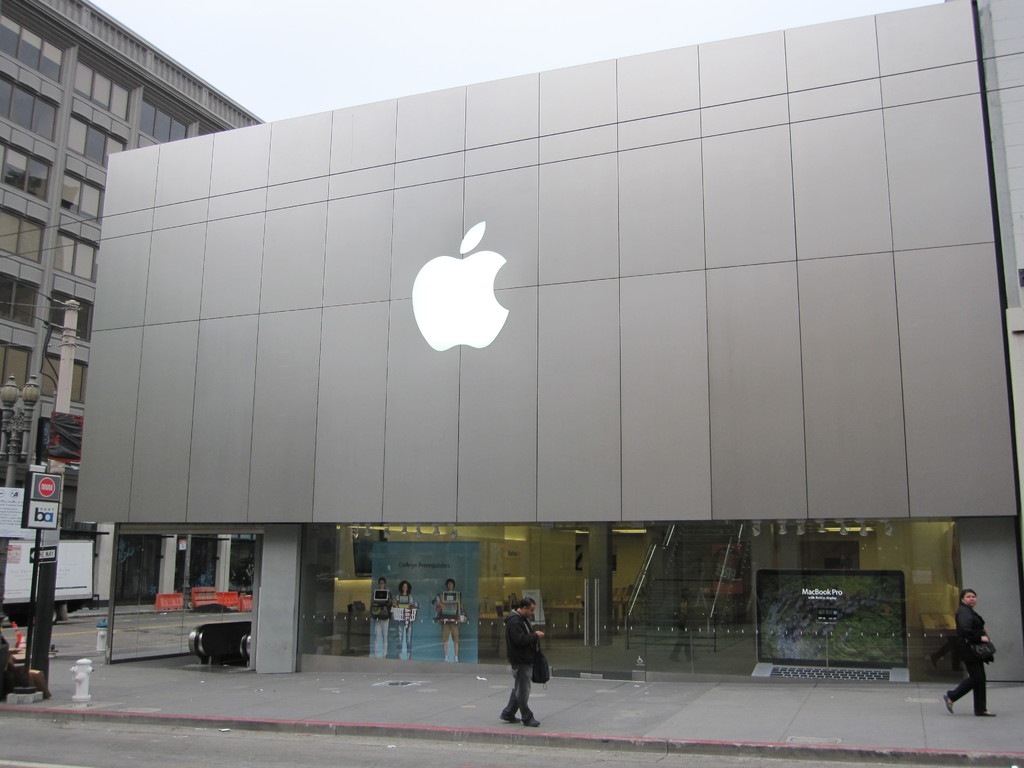Apple: (410, 218, 510, 350)
